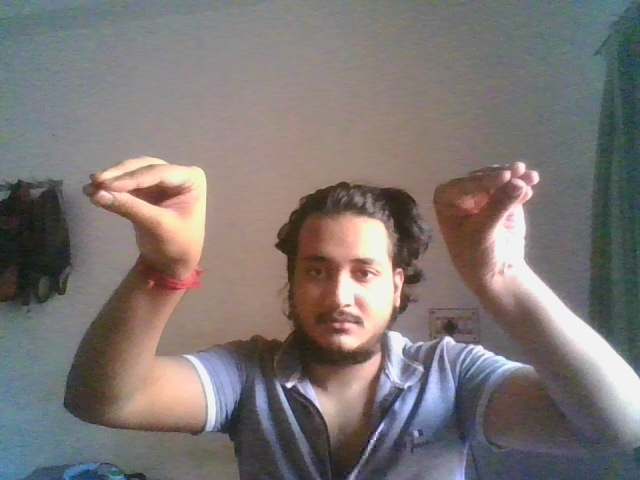Mouth: (79, 155, 208, 269), (434, 160, 542, 273)
